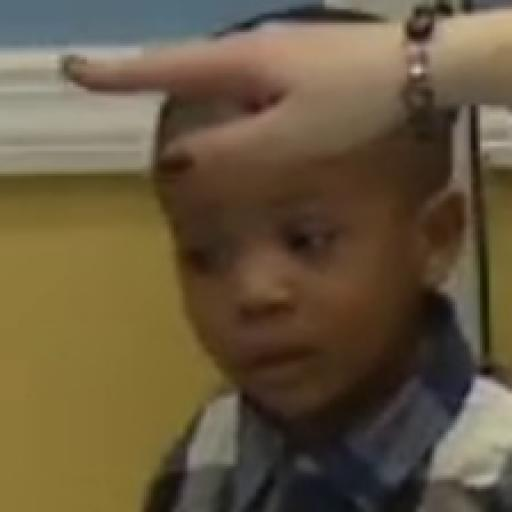Autism: (125, 81, 462, 435)
